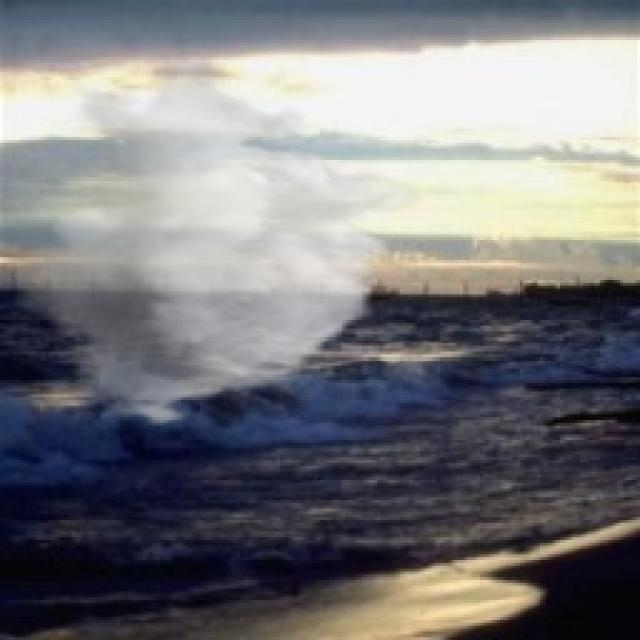Smoke: (3, 51, 423, 428)
